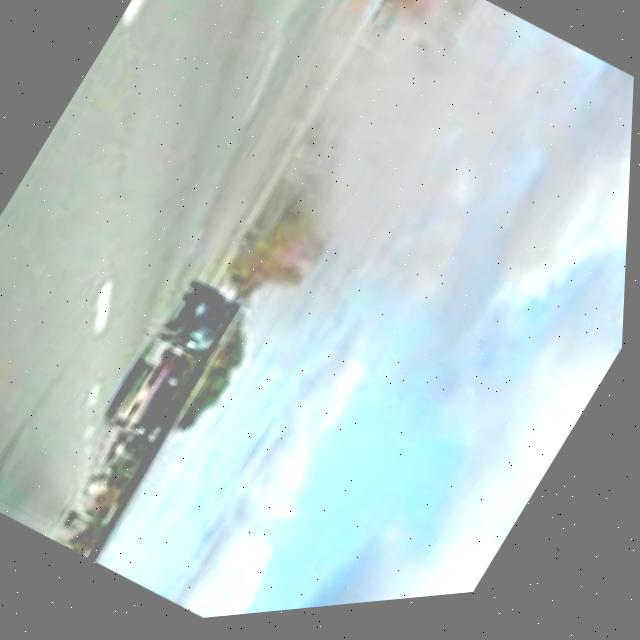Smoke: (91, 0, 640, 506)
